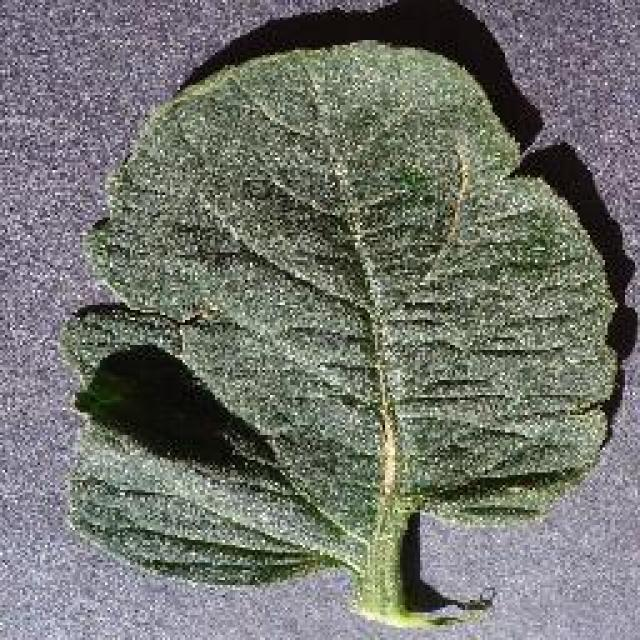Healthy: (42, 2, 640, 640)
